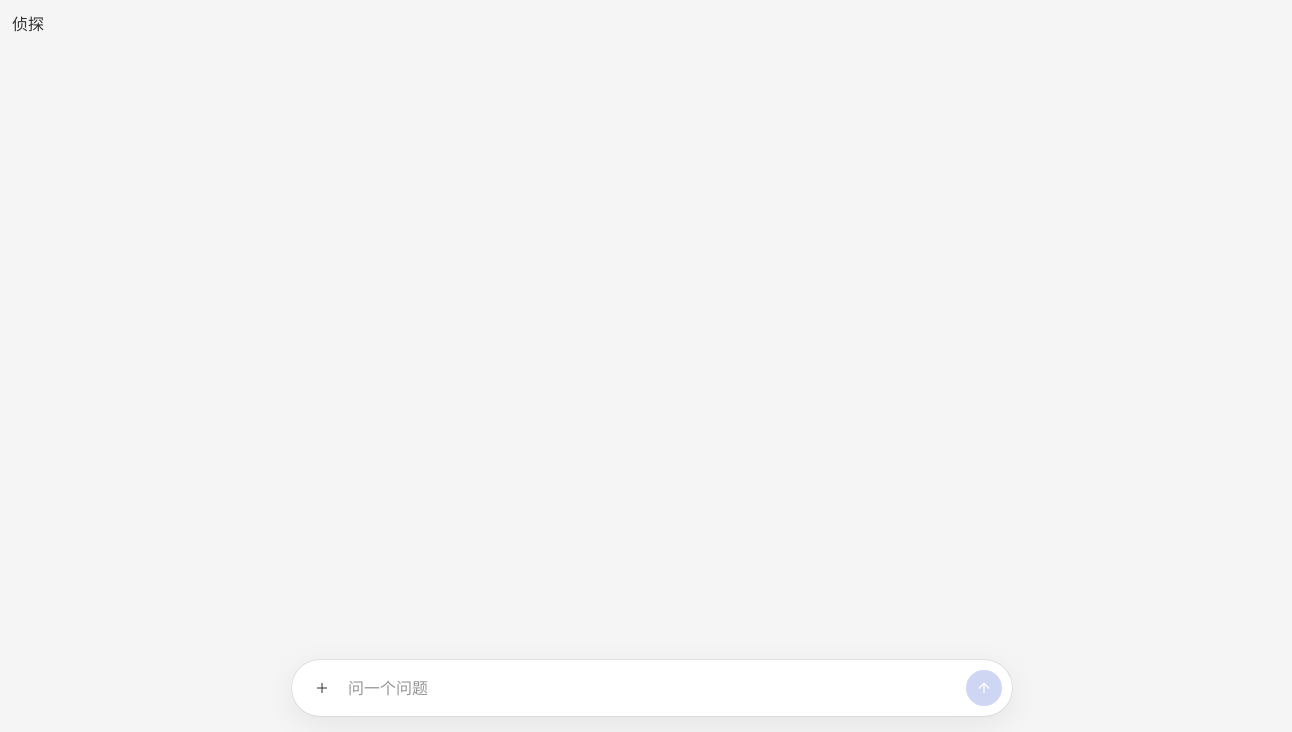
Test: 连续侦探对话 › 停止后迟到的终态不会覆盖已停止的回复
In the text box named "问侦探": (653, 688) x1=348 y1=670 x2=958 y2=706, type "随时可以停止"
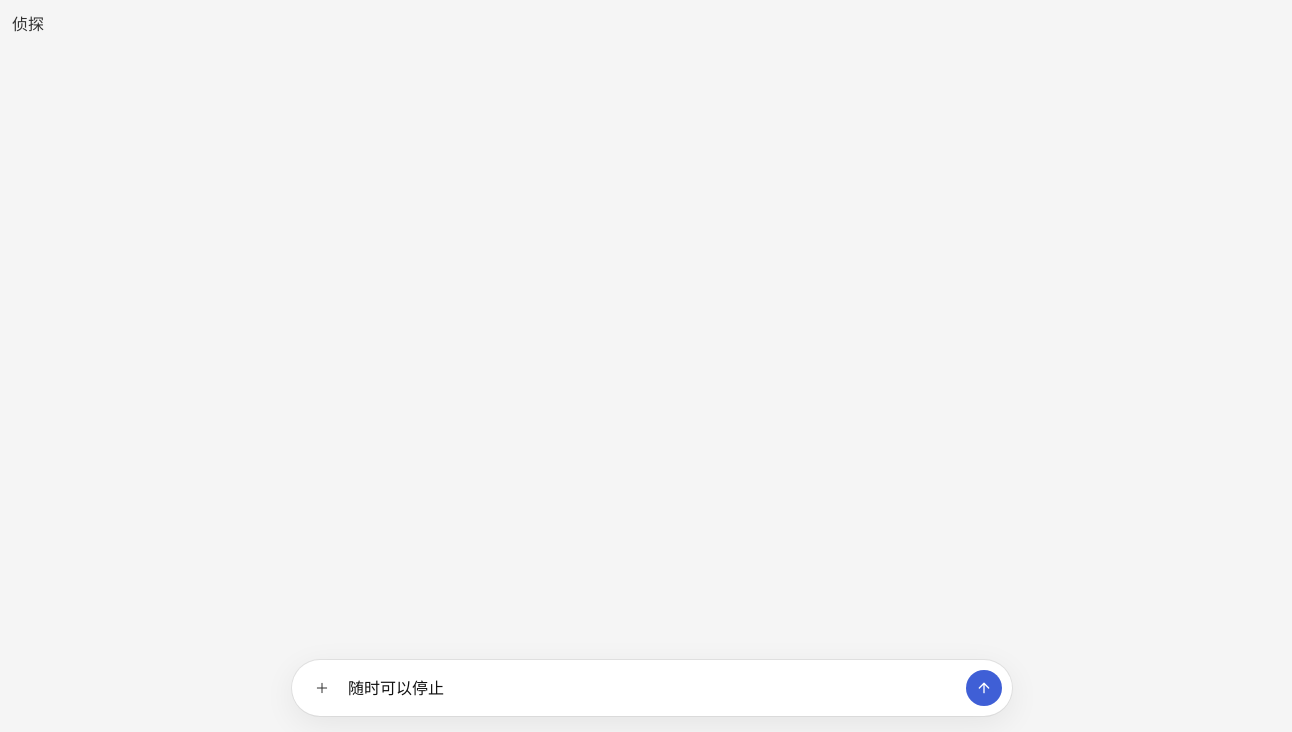
Submit the form named "问侦探", box x1=292 y1=660 x2=1012 y2=716
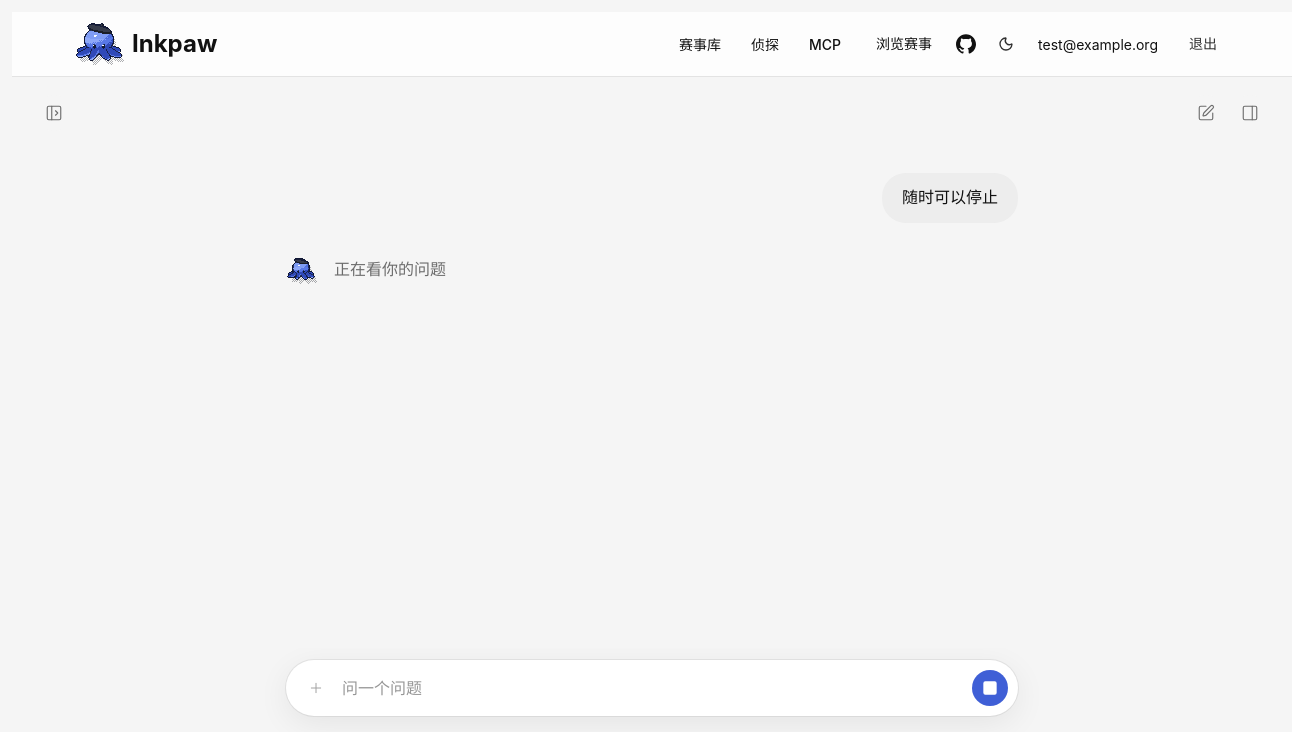
Click the button named "停止查证": click(990, 688) x1=972 y1=670 x2=1008 y2=706
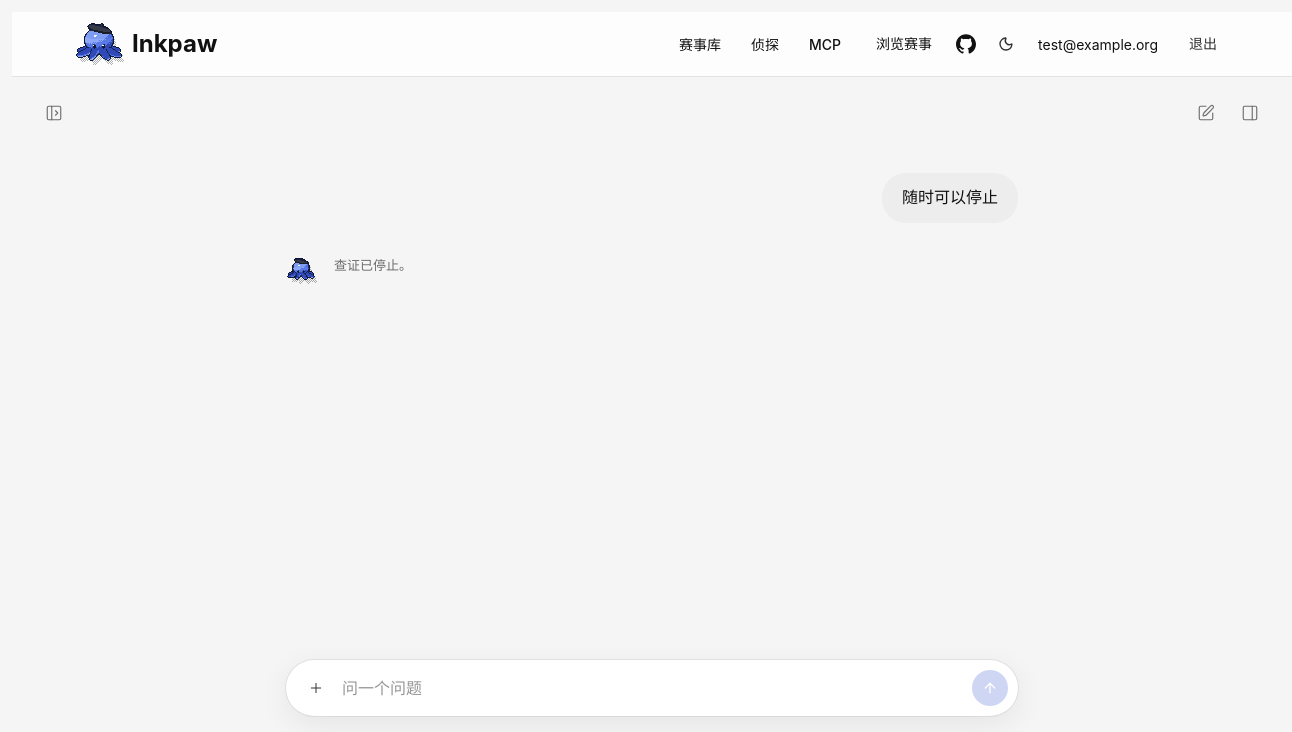
Expected: the text box named "问侦探" is enabled, x1=342 y1=670 x2=964 y2=706
Now the text "查证已停止。" is shown, box x1=334 y1=257 x2=412 y2=273
